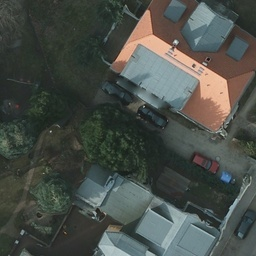car: (136, 101, 168, 130), (100, 82, 133, 106), (189, 153, 219, 173), (236, 208, 255, 238)
